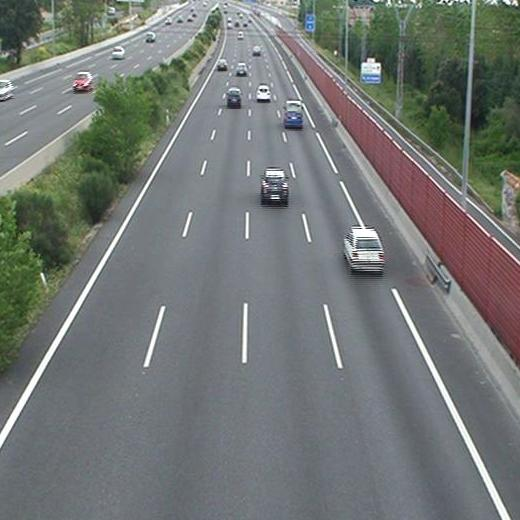car: (345, 229, 384, 272), (261, 171, 287, 200), (226, 89, 242, 105), (256, 87, 271, 100), (216, 59, 228, 71), (236, 63, 248, 74), (253, 45, 261, 56)
van: (285, 100, 303, 126)
